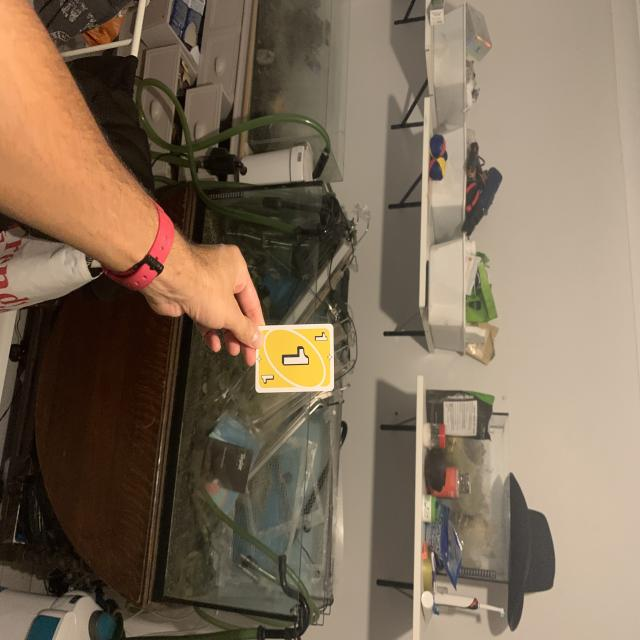lyellow-1: (313, 328, 331, 349)
